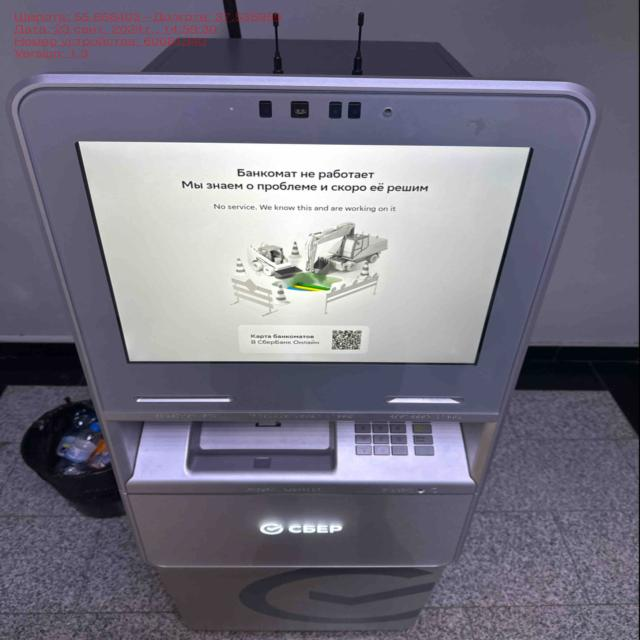bank: (5, 35, 600, 640)
